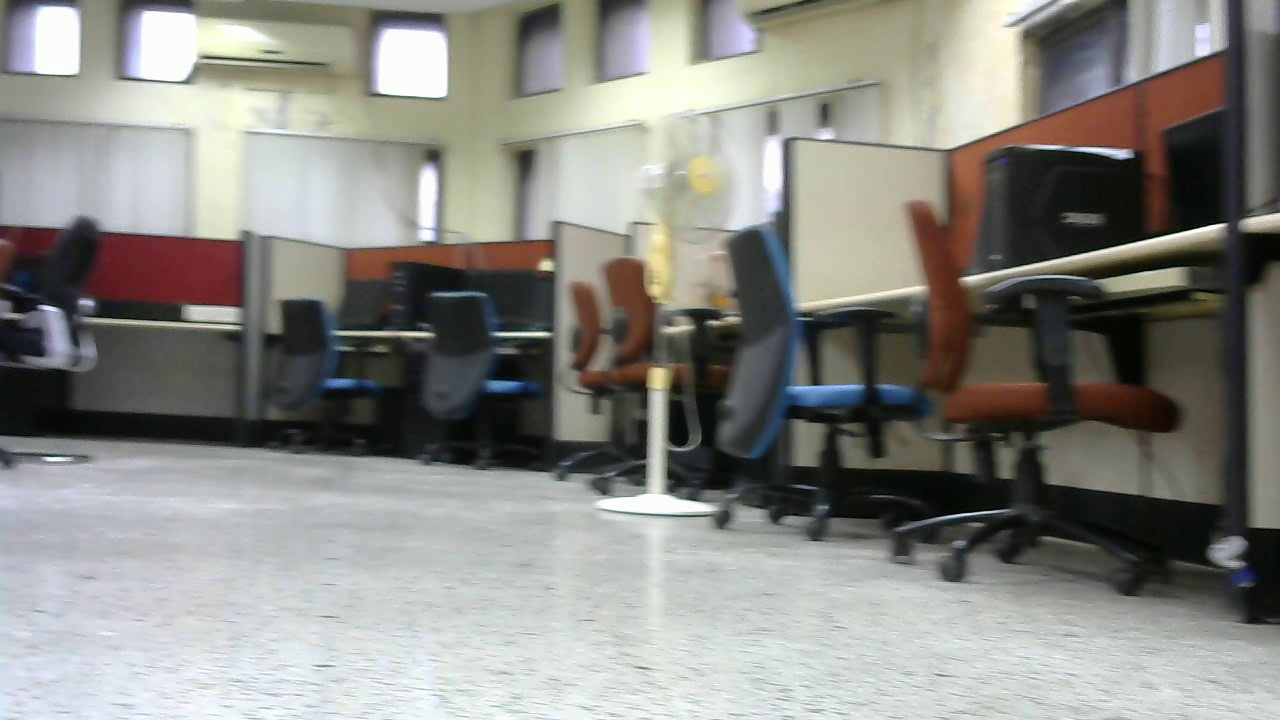chair: (883, 199, 1186, 596), (702, 221, 924, 538), (557, 258, 729, 502), (1, 213, 115, 485), (414, 289, 550, 481), (258, 301, 389, 465)
